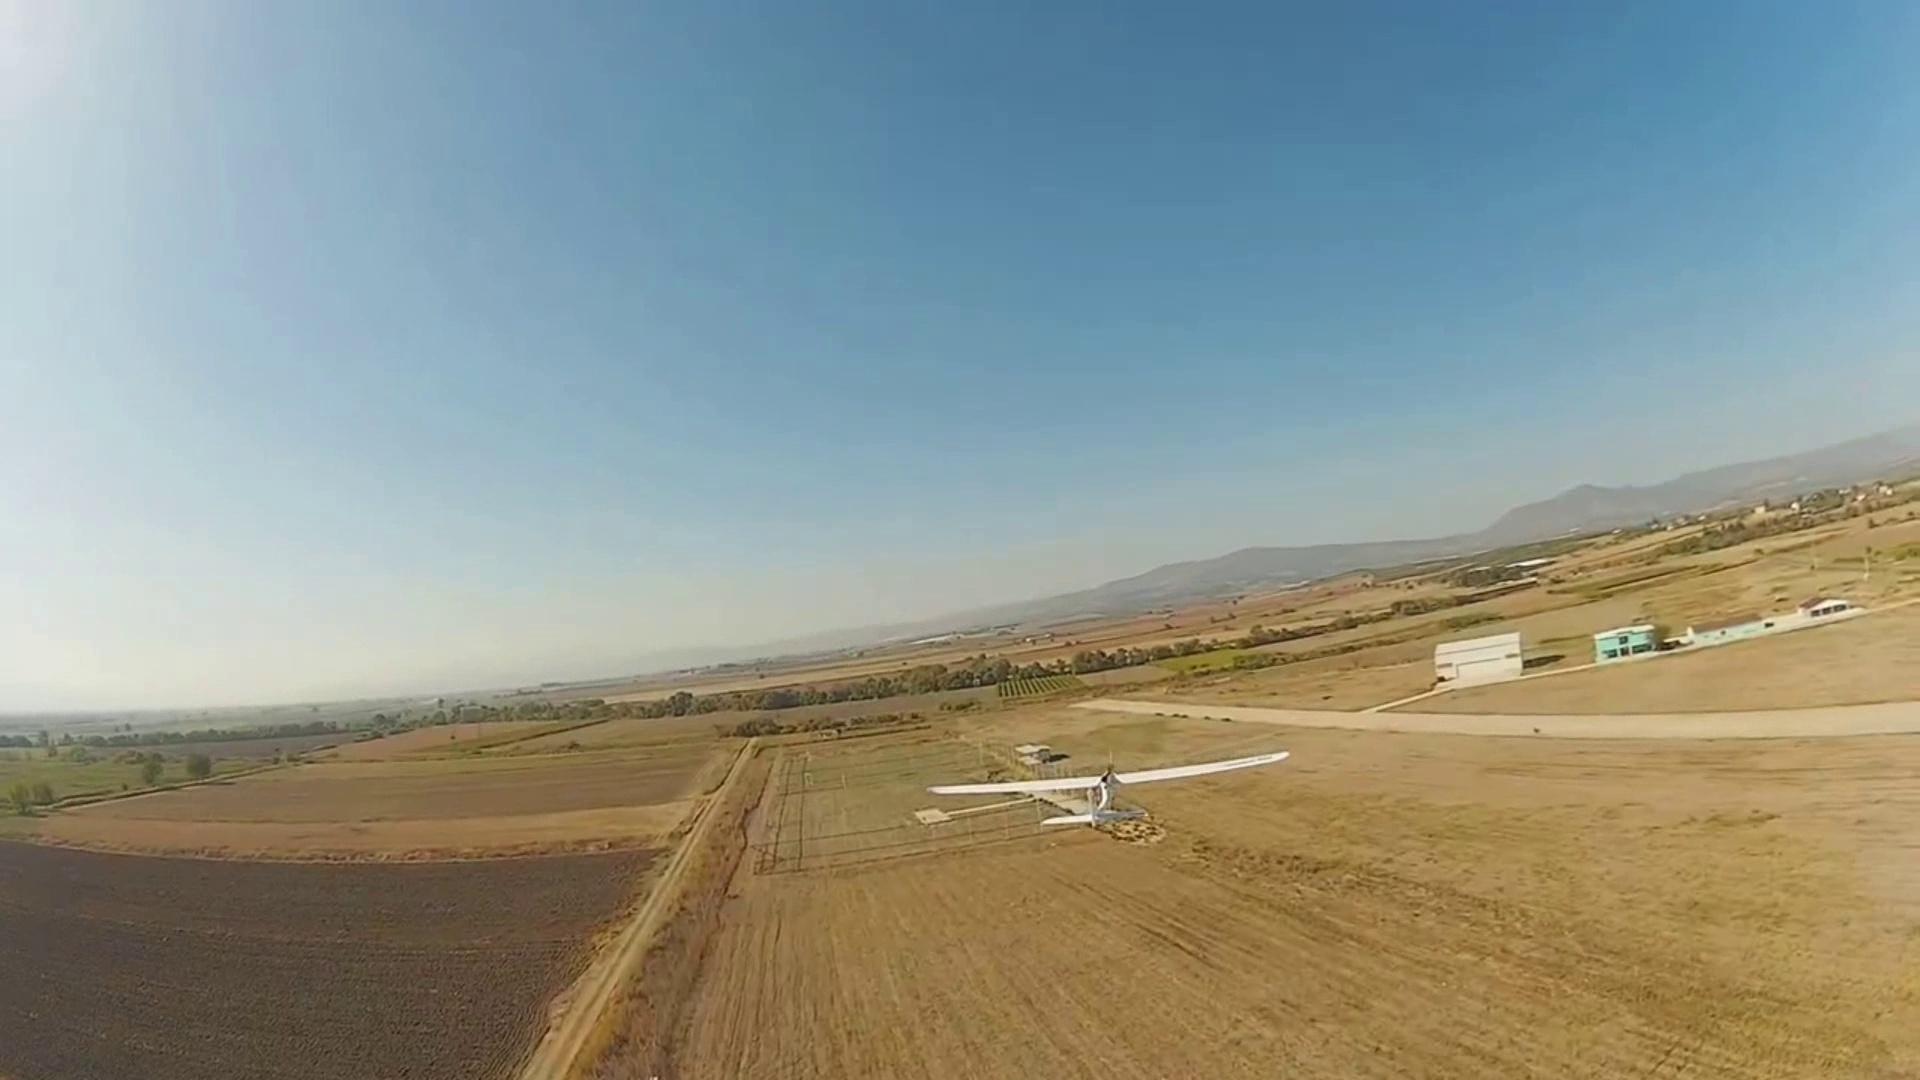airplane: (923, 738, 1295, 839)
